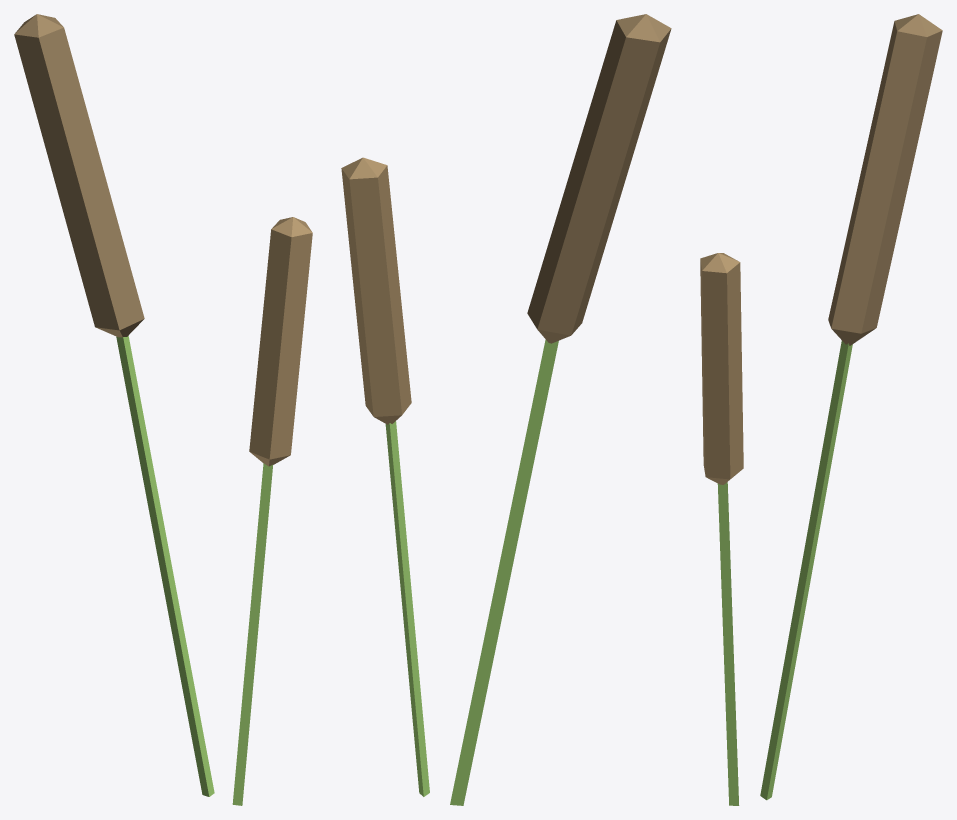
The model's file is Reed_b_05.fbx.
3 views of the same model, side by side, from view 1: azimuth 30°, elevation 25°; view 2: azimuth 210°, elevation 25°; view 3: azimuth 270°, elevation 25° (orthographic). The views are drawn at different scales.
Parts seen in each view (by area): view 1: Reed_b_05; view 2: Reed_b_05; view 3: Reed_b_05.
Boxes of the visible parts, x1,y1,x2,y2 form: Reed_b_05: (14, 14, 312, 805); Reed_b_05: (341, 14, 671, 805); Reed_b_05: (700, 14, 942, 805).
Size of the model in its own units: 25.05 by 93.15 by 27.7.
